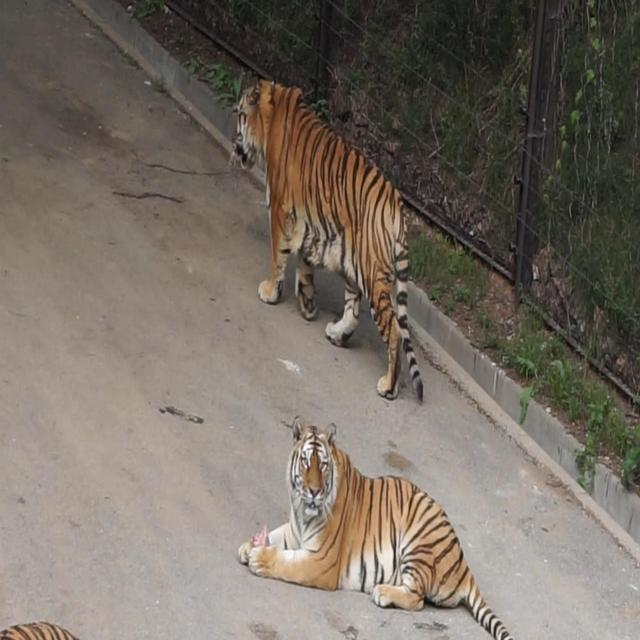tiger: (236, 414, 533, 639), (229, 76, 424, 402), (0, 619, 136, 639)
